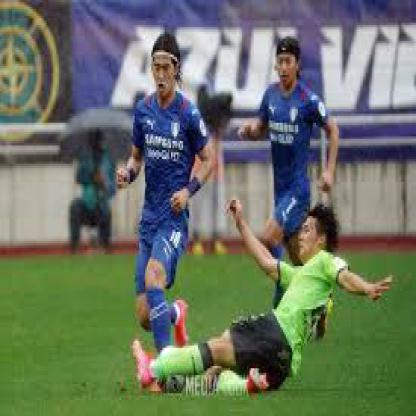Fall_Down: (131, 195, 395, 398)
